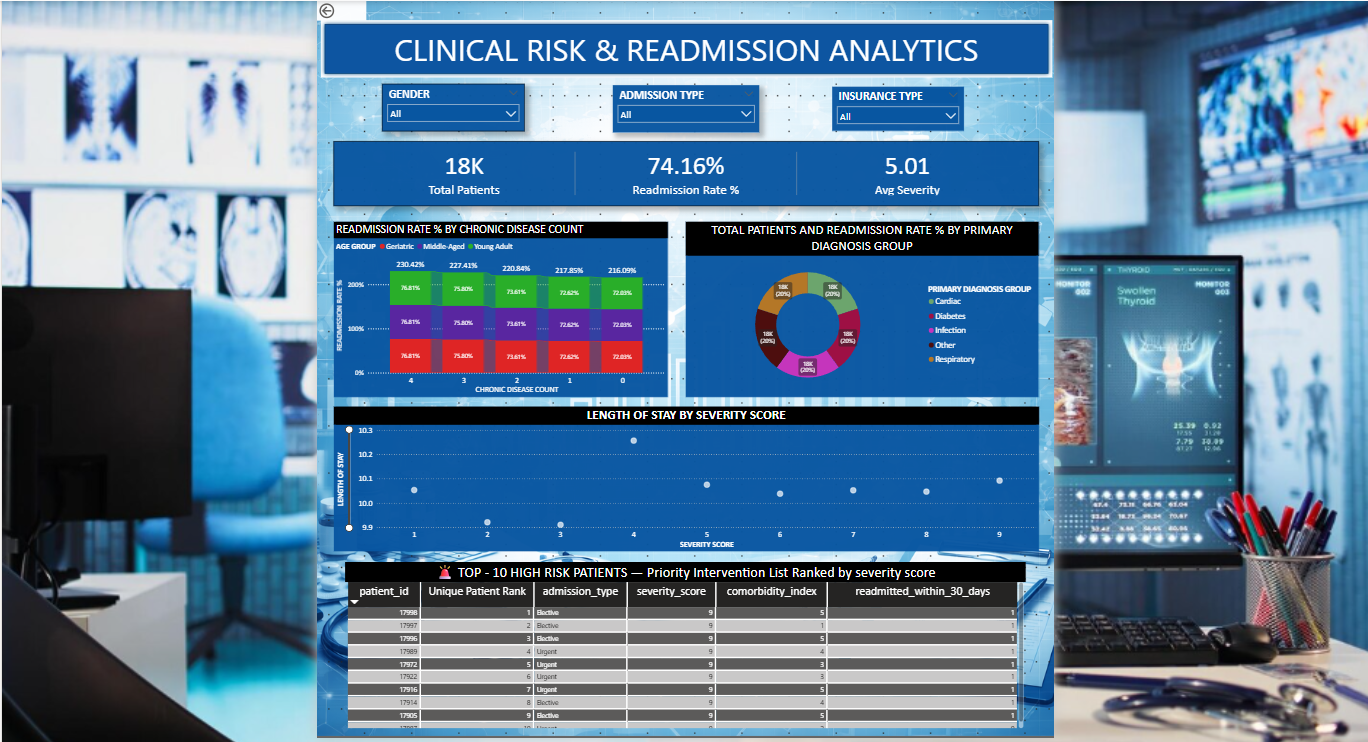

The dashboard page shown, as its layout file describes it:
{"tool":"powerbi","page":{"name":"Page 1","canvas":[1500,1500],"ordinal":0},"visuals":[{"type":"cardVisual","fields":{"Data":["hospital_data.Total Patients","hospital_data.Readmission Rate %","hospital_data.Avg Severity"]},"box":[33.3,286.7,1435,131.7],"z":0},{"type":"donutChart","title":"TOTAL PATIENTS AND READMISSION RATE % BY PRIMARY DIAGNOSIS GROUP","fields":{"Category":["efficiency_metric_powerbi.primary_diagnosis_group"],"Y":["hospital_data.Total Patients"]},"box":[750,450,718.3,356.7],"z":1000},{"type":"columnChart","title":"READMISSION RATE % BY CHRONIC DISEASE COUNT","fields":{"Category":["hospital_data.chronic_disease_count"],"Y":["hospital_data.Readmission Rate %"],"Series":["cohort.age_group"]},"box":[33.3,450,680,356.7],"z":2000},{"type":"tableEx","title":"🚨 TOP - 10 HIGH RISK PATIENTS — Priority Intervention List Ranked by severity score  ","fields":{"Values":["hospital_data.patient_id","hospital_data.Unique Patient Rank","hospital_data.admission_type","hospital_data.severity_score","hospital_data.comorbidity_index","hospital_data.readmitted_within_30_days"]},"box":[56.7,1141.7,1385,343.3],"z":3000},{"type":"actionButton","box":[0,0,100,40],"z":4000},{"type":"slicer","fields":{"Values":["hospital_data.gender"]},"box":[133.3,168.3,290,96.7],"z":5000},{"type":"slicer","fields":{"Values":["hospital_data.insurance_type"]},"box":[1048.3,175,268.3,90],"z":6000},{"type":"slicer","fields":{"Values":["hospital_data.admission_type"]},"box":[601.7,171.7,298.3,96.7],"z":7000},{"type":"shape","box":[6.7,40,1488.3,116.7],"z":8000},{"type":"scatterChart","title":"LENGTH OF STAY BY SEVERITY SCORE","fields":{"Y":["Avg(hospital_data.length_of_stay)"],"X":["hospital_data.severity_score"]},"box":[33.3,825,1435,295],"z":9000}]}

Visuals, with their boxes in screenshot pixels (x1, y1, x2, y2):
cardVisual - hospital_data.Total Patients x hospital_data.Readmission Rate %: 327 138 1052 204
"TOTAL PATIENTS AND READMISSION RATE % BY PRIMARY DIAGNOSIS GROUP" donutChart: 689 220 1052 400
"READMISSION RATE % BY CHRONIC DISEASE COUNT" columnChart: 327 220 670 400
"🚨 TOP - 10 HIGH RISK PATIENTS — Priority Intervention List Ranked by severity score  " tableEx: 339 570 1038 741
actionButton: 310 0 360 13
slicer - hospital_data.gender: 377 78 524 127
slicer - hospital_data.insurance_type: 839 81 975 127
slicer - hospital_data.admission_type: 614 80 765 128
shape: 313 13 1065 72
"LENGTH OF STAY BY SEVERITY SCORE" scatterChart: 327 410 1052 559
